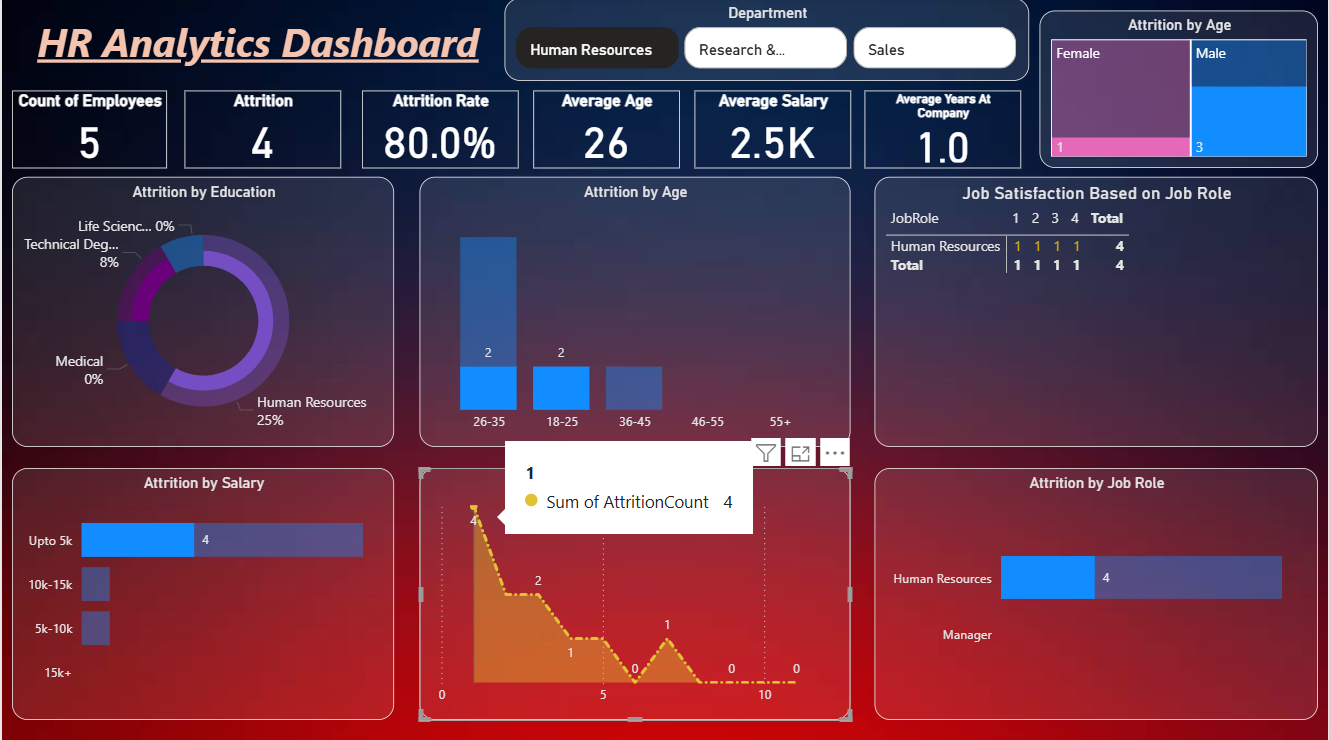

The page's visual inventory and layout, read from the dashboard file:
{"tool":"powerbi","page":{"name":"Page 1","canvas":[1280,720],"ordinal":0},"visuals":[{"type":"card","title":"Count of Employees","fields":{"Values":["CountNonNull(HR_Analytics (1).EmpID)"]},"box":[9.6,89.2,149.6,75.5],"z":0},{"type":"card","title":"Attrition","fields":{"Values":["Sum(HR_Analytics (1).AttritionCount)"]},"box":[175.6,89.2,150.9,75.5],"z":1000},{"type":"card","title":"Attrition Rate","fields":{"Values":["HR_Analytics (1).AttritionRate"]},"box":[347.2,89.2,150.9,75.5],"z":2000},{"type":"card","title":"Average Age","fields":{"Values":["Avg(HR_Analytics (1).Age)"]},"box":[513.2,89.2,141.3,75.5],"z":3000},{"type":"card","title":"Average Years At Company","fields":{"Values":["Avg(HR_Analytics (1).YearsAtCompany)"]},"box":[832.9,89.2,150.9,75.5],"z":4000},{"type":"card","title":"Average Salary","fields":{"Values":["Avg(HR_Analytics (1).MonthlyIncome)"]},"box":[668.3,89.2,150.9,75.5],"z":5000},{"type":"donutChart","title":"Attrition by Education","fields":{"Category":["HR_Analytics (1).EducationField"],"Y":["Sum(HR_Analytics (1).AttritionCount)"]},"box":[9.6,172.9,369.1,260.7],"z":6000},{"type":"columnChart","title":"Attrition by Age","fields":{"Category":["HR_Analytics (1).AgeGroup"],"Y":["Sum(HR_Analytics (1).AttritionCount)"]},"box":[403.4,172.9,415.8,260.7],"z":7000},{"type":"pivotTable","title":"Job Satisfaction Based on Job Role","fields":{"Rows":["HR_Analytics (1).JobRole"],"Columns":["HR_Analytics (1).JobSatisfaction"],"Values":["Sum(HR_Analytics (1).AttritionCount)"]},"box":[842.1,172.5,428.3,260.6],"z":8000},{"type":"barChart","title":"Attrition by Salary ","fields":{"Category":["HR_Analytics (1).SalarySlab"],"Y":["Sum(HR_Analytics (1).AttritionCount)"]},"box":[9.6,454.2,369.1,242.9],"z":9000},{"type":"barChart","title":"Attrition by Job Role","fields":{"Category":["HR_Analytics (1).JobRole"],"Y":["Sum(HR_Analytics (1).AttritionCount)"]},"box":[842.5,454.2,428.1,242.9],"z":10000},{"type":"areaChart","title":"Attrition by Years at Company","fields":{"Category":["HR_Analytics (1).YearsAtCompany"],"Y":["Sum(HR_Analytics (1).AttritionCount)"]},"box":[403.4,454.2,415.8,242.9],"z":11000},{"type":"treemap","title":"Attrition by Age","fields":{"Group":["HR_Analytics (1).Gender"],"Values":["Sum(HR_Analytics (1).AttritionCount)"]},"box":[1001.7,12.3,269,152.3],"z":12000},{"type":"advancedSlicerVisual","fields":{"Values":["HR_Analytics (1).Department"]},"box":[485,0,506.7,79.6],"z":13000},{"type":"textbox","box":[9.6,12.3,474.8,67.2],"z":14000}]}

Visuals, with their boxes in screenshot pixels (x1, y1, x2, y2), scaled from the page's 1280x720 canvas onto the 1329x740 screenshot:
"Count of Employees" card: {"left": 10, "top": 92, "right": 165, "bottom": 169}
"Attrition" card: {"left": 182, "top": 92, "right": 339, "bottom": 169}
"Attrition Rate" card: {"left": 360, "top": 92, "right": 517, "bottom": 169}
"Average Age" card: {"left": 533, "top": 92, "right": 680, "bottom": 169}
"Average Years At Company" card: {"left": 865, "top": 92, "right": 1021, "bottom": 169}
"Average Salary" card: {"left": 694, "top": 92, "right": 851, "bottom": 169}
"Attrition by Education" donutChart: {"left": 10, "top": 178, "right": 393, "bottom": 446}
"Attrition by Age" columnChart: {"left": 419, "top": 178, "right": 851, "bottom": 446}
"Job Satisfaction Based on Job Role" pivotTable: {"left": 874, "top": 177, "right": 1319, "bottom": 445}
"Attrition by Salary " barChart: {"left": 10, "top": 467, "right": 393, "bottom": 716}
"Attrition by Job Role" barChart: {"left": 875, "top": 467, "right": 1319, "bottom": 716}
"Attrition by Years at Company" areaChart: {"left": 419, "top": 467, "right": 851, "bottom": 716}
"Attrition by Age" treemap: {"left": 1040, "top": 13, "right": 1319, "bottom": 169}
advancedSlicerVisual - HR_Analytics (1).Department: {"left": 504, "top": 0, "right": 1030, "bottom": 82}
textbox: {"left": 10, "top": 13, "right": 503, "bottom": 82}
